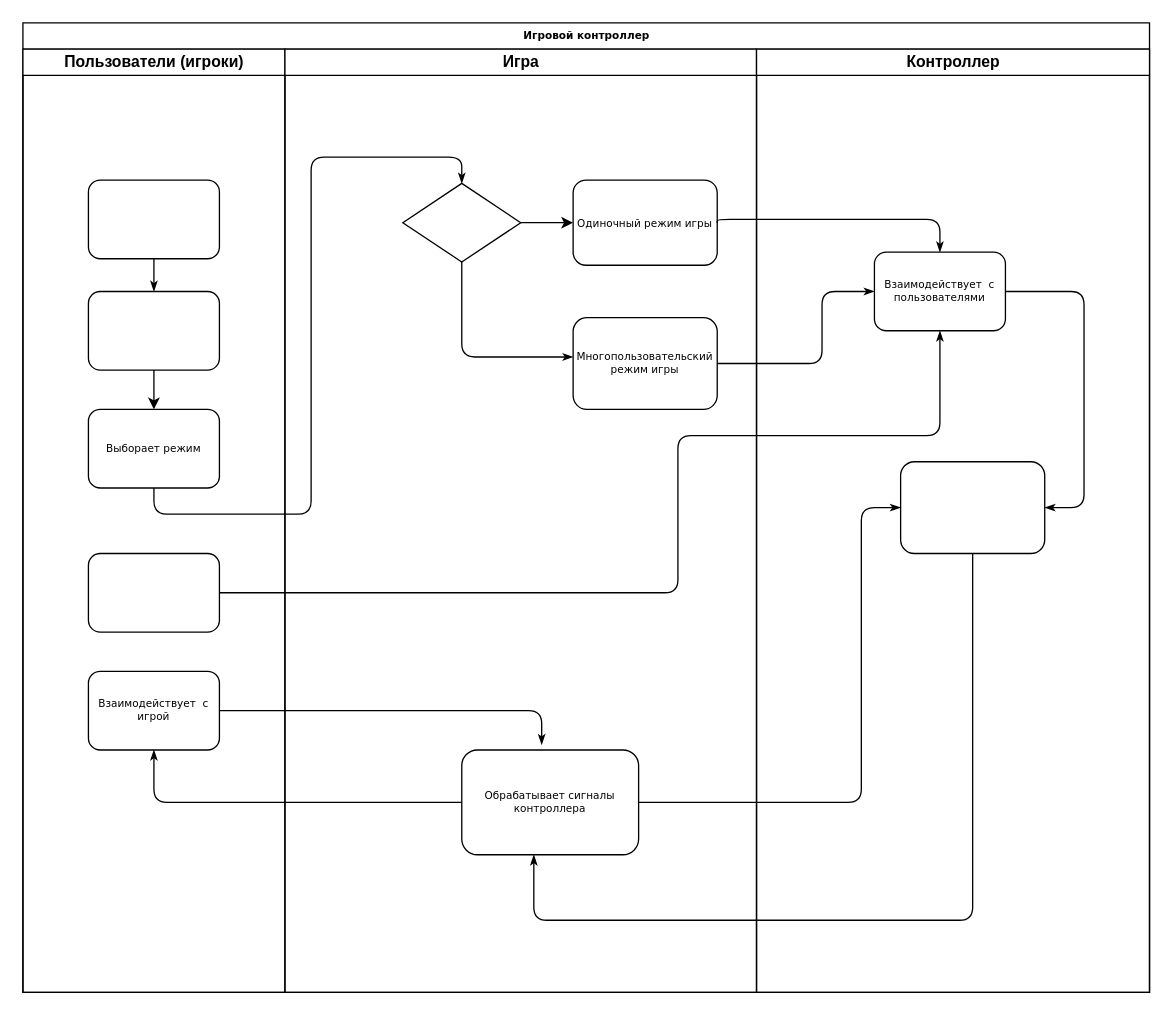
This 1172x1015 diagram has some shape labels left out. Here are the shapes that lost their labels. From the top down, the centre of each, then its label:
At pixel 153 219: "Запускает игру".
At pixel 461 222: "Мультиплейер/одиночный".
At pixel 153 330: "Выбирает игру".
At pixel 972 506: "Отправляет данные через интерфес контроллера".
At pixel 153 592: "Взаимодействует с контроллером".
